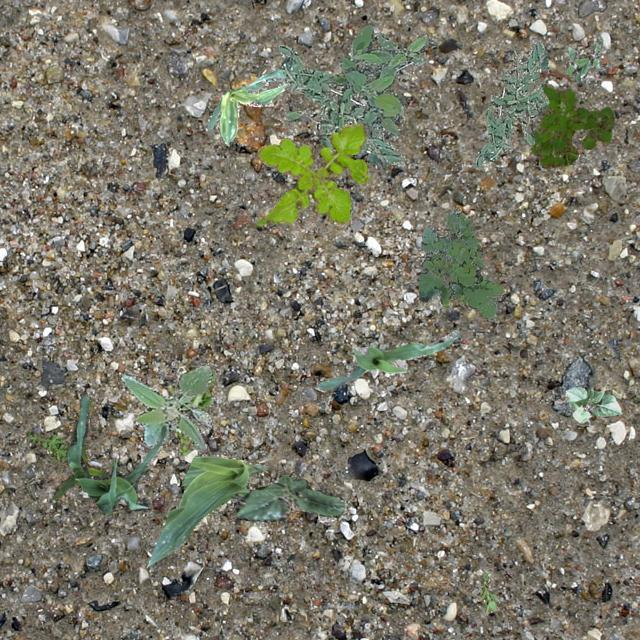crop: (146, 452, 266, 566), (66, 391, 166, 514), (316, 330, 458, 390), (204, 68, 288, 146), (53, 396, 109, 499), (234, 474, 346, 522), (564, 386, 622, 422)
weed: (278, 44, 402, 166), (255, 123, 368, 225), (330, 24, 428, 140), (416, 208, 504, 318), (474, 38, 548, 166), (120, 362, 212, 448), (528, 80, 612, 168), (166, 368, 214, 454), (24, 430, 68, 462), (566, 40, 600, 80), (476, 572, 498, 614)
